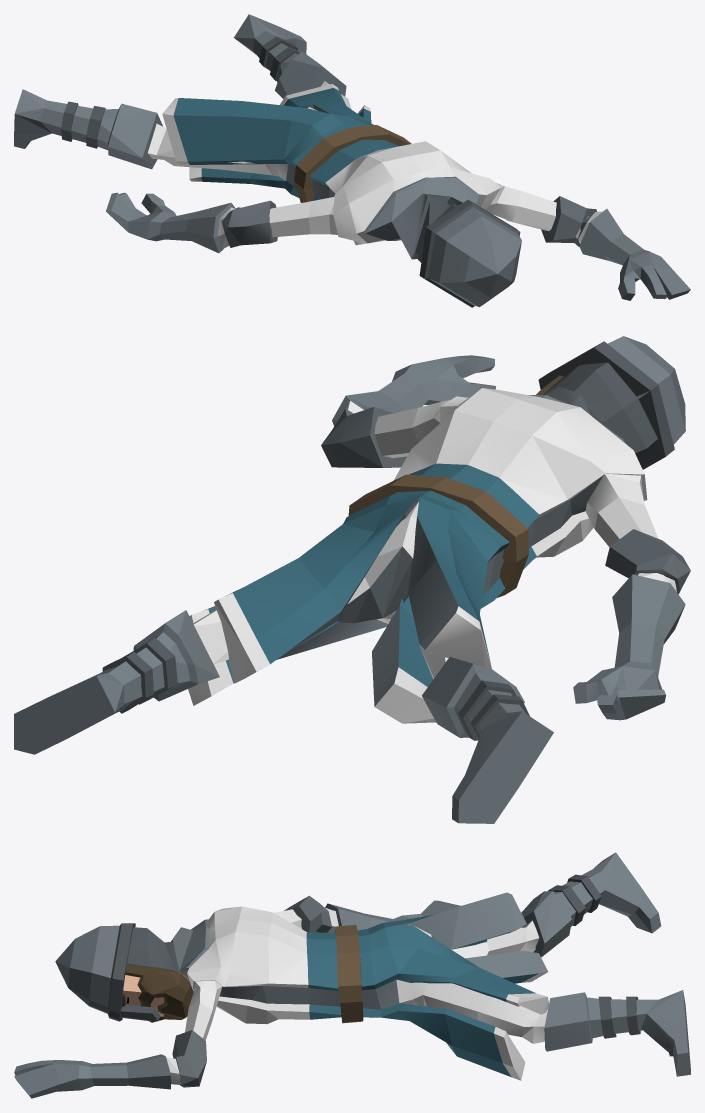
File: SM_Dead_Soldier_02.fbx
The picture shows the model from 3 angles, top to bottom: view 1: azimuth 30°, elevation 25°; view 2: azimuth 150°, elevation 25°; view 3: azimuth 270°, elevation 25°; orthographic projection. The views are drawn at different scales.
Parts seen in each view (by area): view 1: SM_Dead_Soldier_02; view 2: SM_Dead_Soldier_02; view 3: SM_Dead_Soldier_02.
Part boxes in pixels (x1,y1,x2,y2): SM_Dead_Soldier_02: (14,14,690,307); SM_Dead_Soldier_02: (14,336,690,823); SM_Dead_Soldier_02: (14,852,690,1098).
Size of the model in its own units: 126 by 39.71 by 198.
